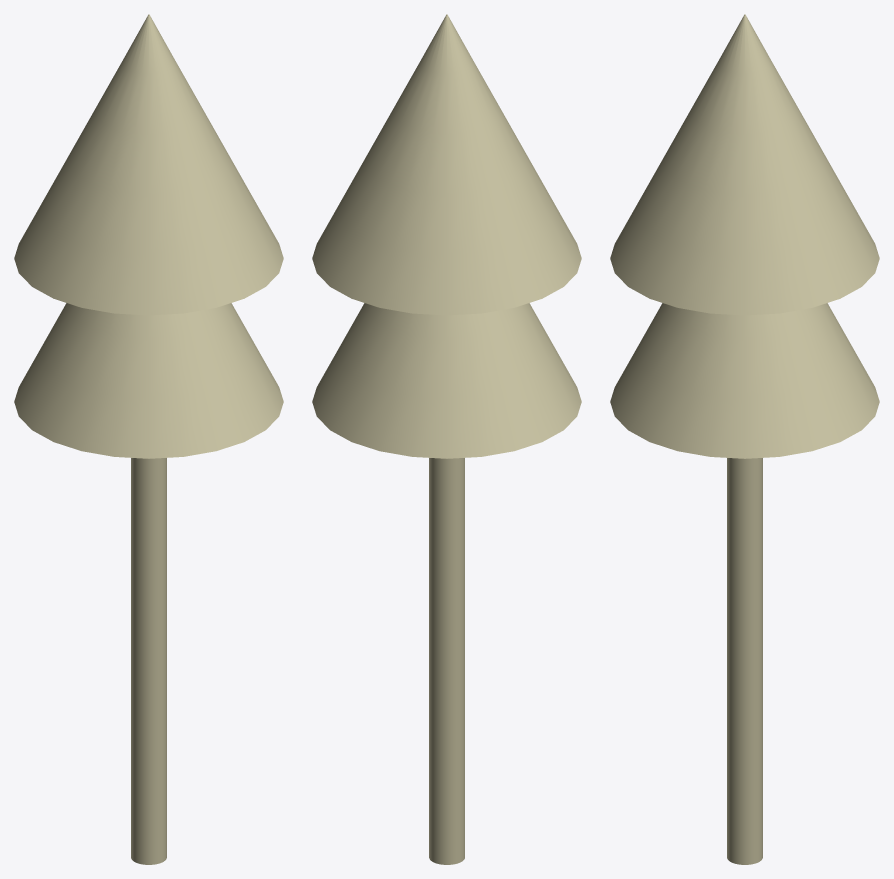
Rendered from SM_WB_TreeGeneric1.FBX.
3 renders of one model, left to right at view 1: azimuth 30°, elevation 25°; view 2: azimuth 150°, elevation 25°; view 3: azimuth 270°, elevation 25°, orthographic.
Parts seen in each view (by area): view 1: SM_WB_TreeGeneric1; view 2: SM_WB_TreeGeneric1; view 3: SM_WB_TreeGeneric1.
Part boxes in pixels (left/top/right/bottom): SM_WB_TreeGeneric1: left=14, top=14, right=283, bottom=864; SM_WB_TreeGeneric1: left=312, top=14, right=581, bottom=864; SM_WB_TreeGeneric1: left=610, top=14, right=879, bottom=864.
Size of the model in its own units: 375 by 375 by 1294.
